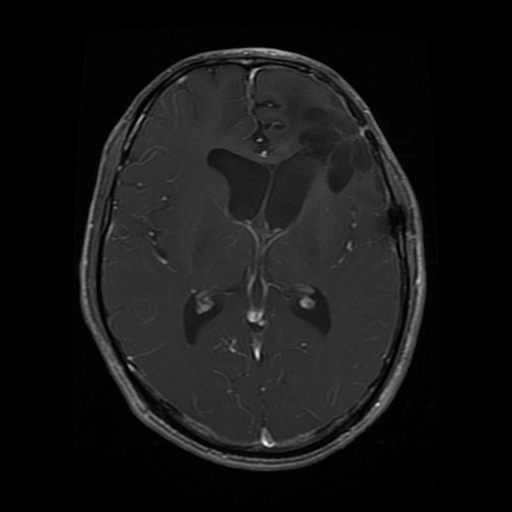glioma: (297, 94, 372, 193)
